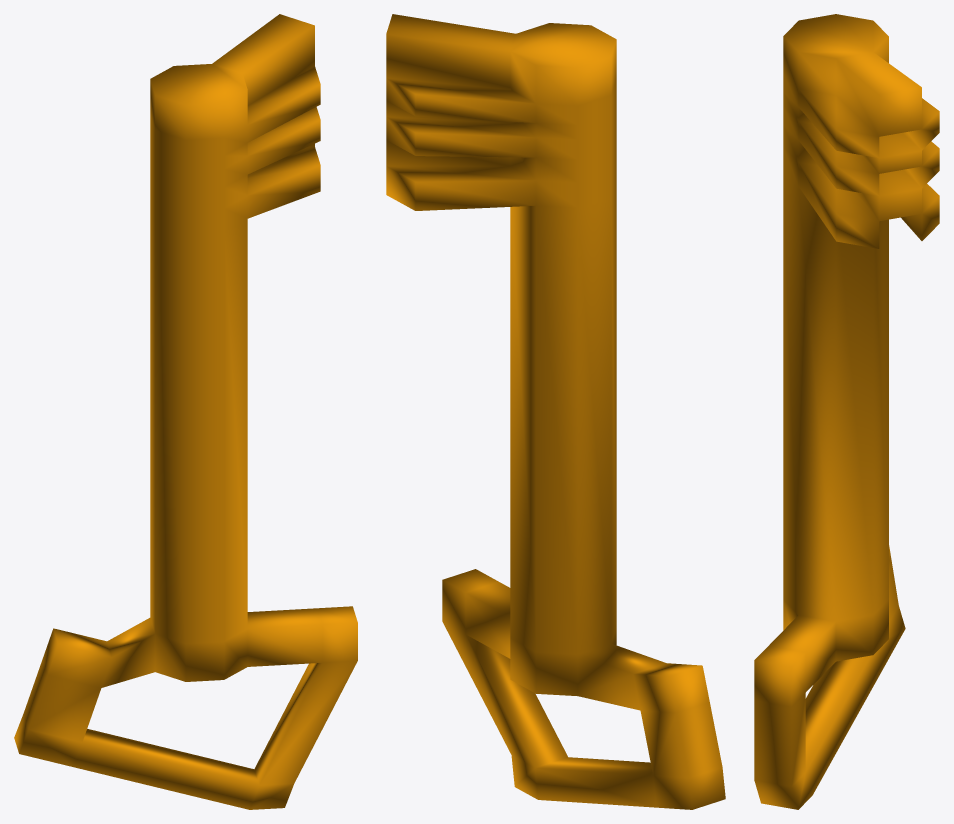
File: Key.fbx
3 views of the same model, side by side, from view 1: azimuth 30°, elevation 25°; view 2: azimuth 150°, elevation 25°; view 3: azimuth 270°, elevation 25° (orthographic). The views are drawn at different scales.
Visible parts, largest first — view 1: Cylinder.002; view 2: Cylinder.002; view 3: Cylinder.002.
Boxes of the visible parts, box(x1,y1,x2,y2) form: Cylinder.002: box(14, 14, 357, 809); Cylinder.002: box(386, 14, 725, 809); Cylinder.002: box(754, 14, 939, 809).
Size of the model in its own units: 34.38 by 78.64 by 17.56.
